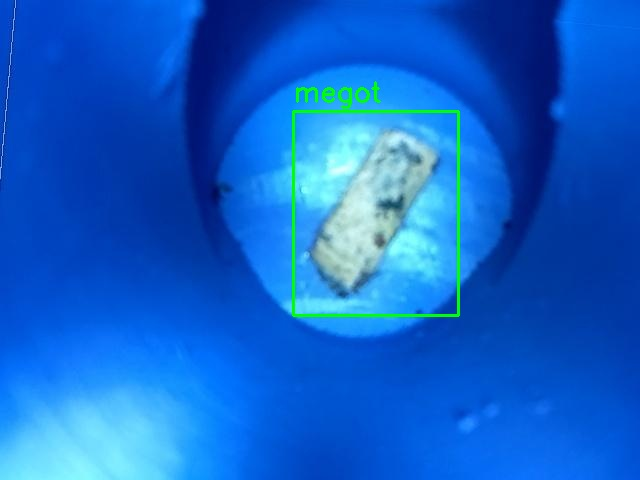megot: (293, 111, 458, 315)
